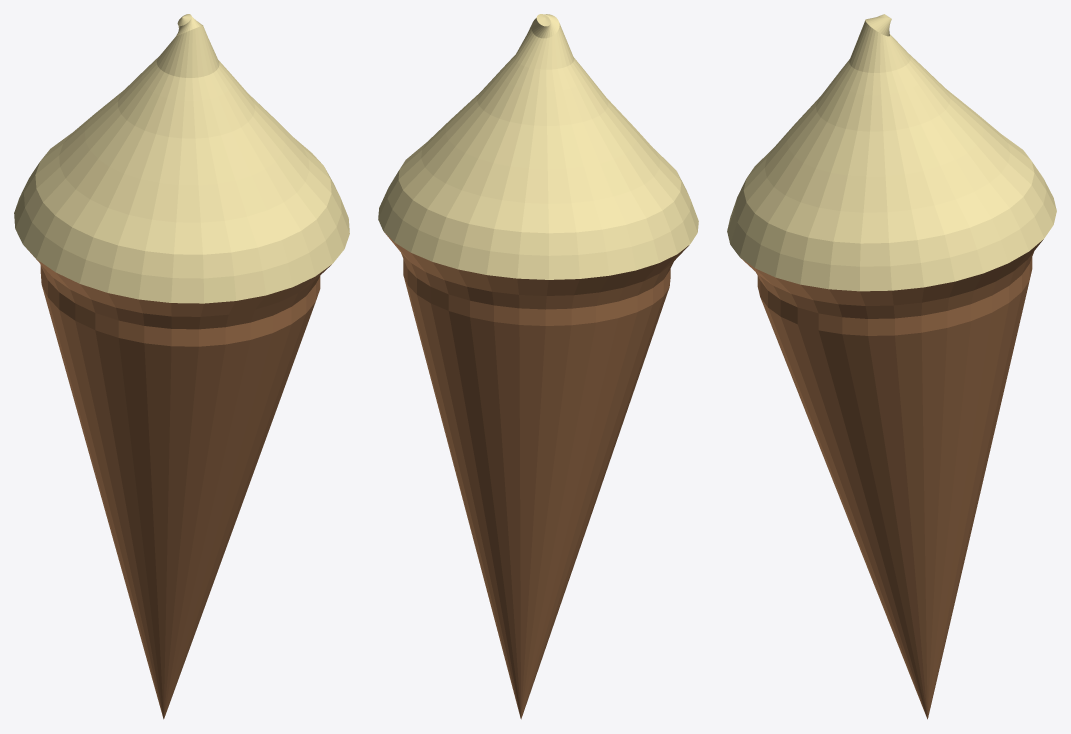
Rendered from Ice Cream.fbx.
The picture shows the model from 3 angles, left to right: view 1: azimuth 30°, elevation 25°; view 2: azimuth 150°, elevation 25°; view 3: azimuth 270°, elevation 25°; orthographic projection. The views are drawn at different scales.
Parts seen in each view (by area): view 1: Cone; view 2: Cone; view 3: Cone.
Boxes of the visible parts, bbox=[...] form: Cone: bbox=[14, 14, 349, 719]; Cone: bbox=[378, 14, 698, 719]; Cone: bbox=[727, 14, 1056, 719].
Size of the model in its own units: 44.51 by 105 by 44.63.
